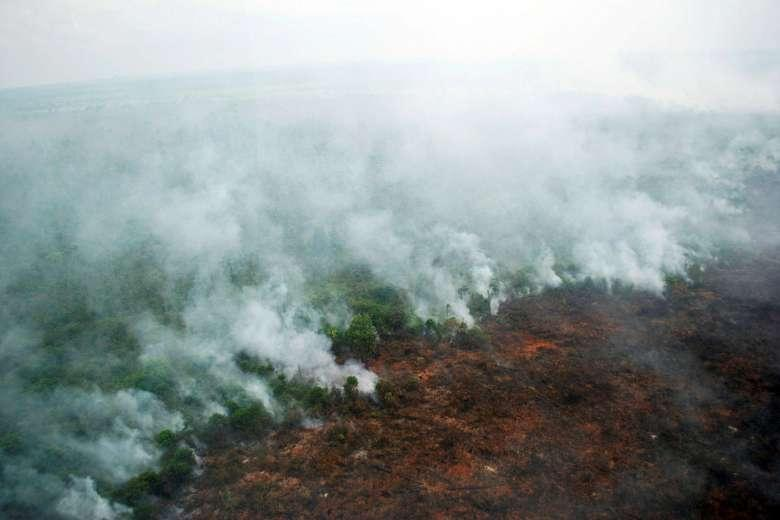smoke: (230, 283, 379, 407), (568, 210, 667, 301), (72, 414, 170, 492), (394, 244, 478, 329), (207, 349, 286, 425), (97, 376, 193, 437), (436, 227, 504, 309), (517, 222, 564, 297)
